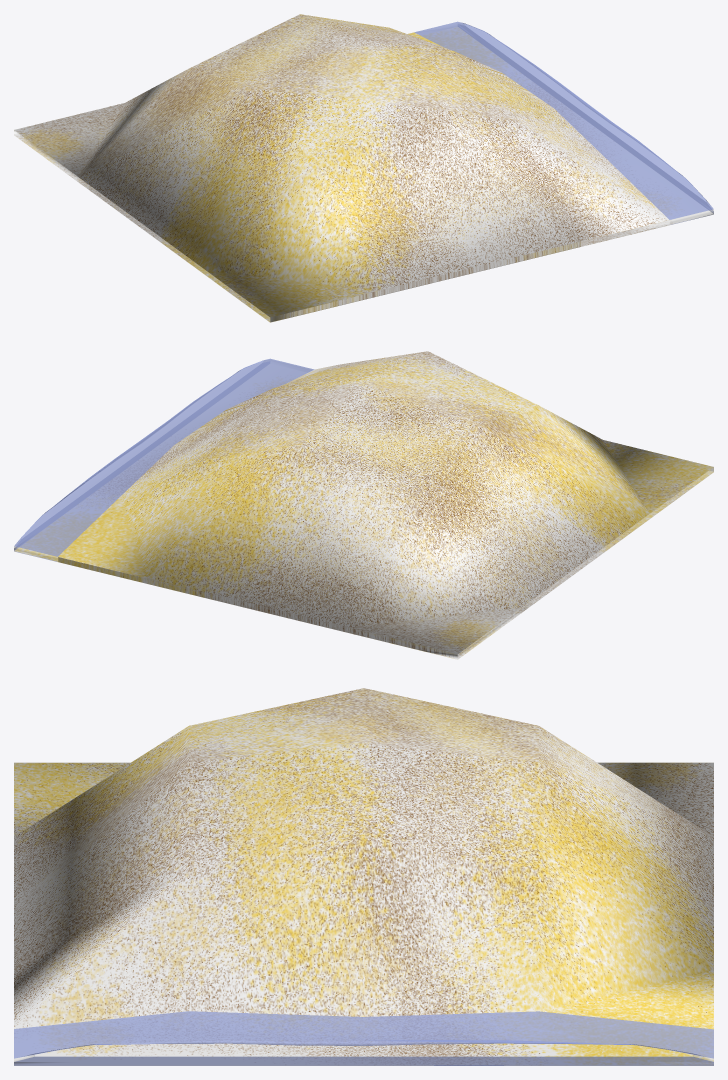
File: close Zipper bag rust water.fbx
3 renders of one model, top to bottom at view 1: azimuth 30°, elevation 25°; view 2: azimuth 150°, elevation 25°; view 3: azimuth 270°, elevation 25°, orthographic. The views are drawn at different scales.
Visible parts, largest first — view 1: pPlane5; view 2: pPlane5; view 3: pPlane5.
Part boxes in pixels (x1,y1,x2,y2): pPlane5: (14, 14, 713, 322); pPlane5: (14, 351, 713, 659); pPlane5: (14, 688, 713, 1065).
Size of the model in its own units: 3.78 by 1.04 by 3.78.
